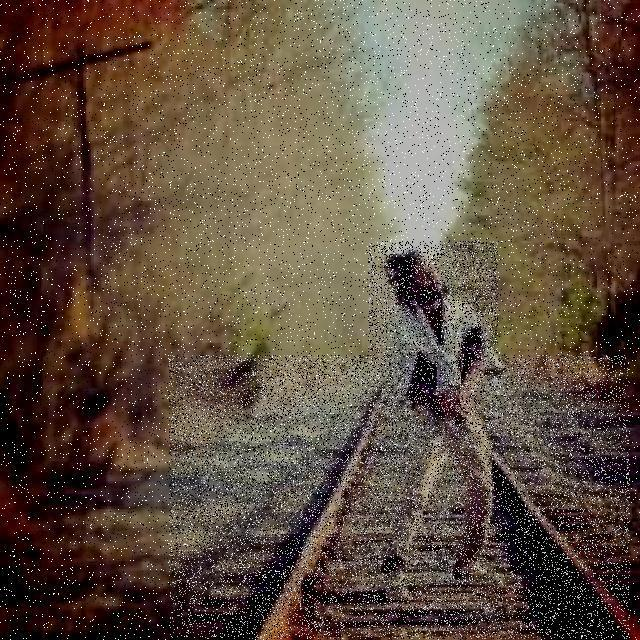danger: (368, 242, 498, 608)
rail: (169, 356, 630, 640)
